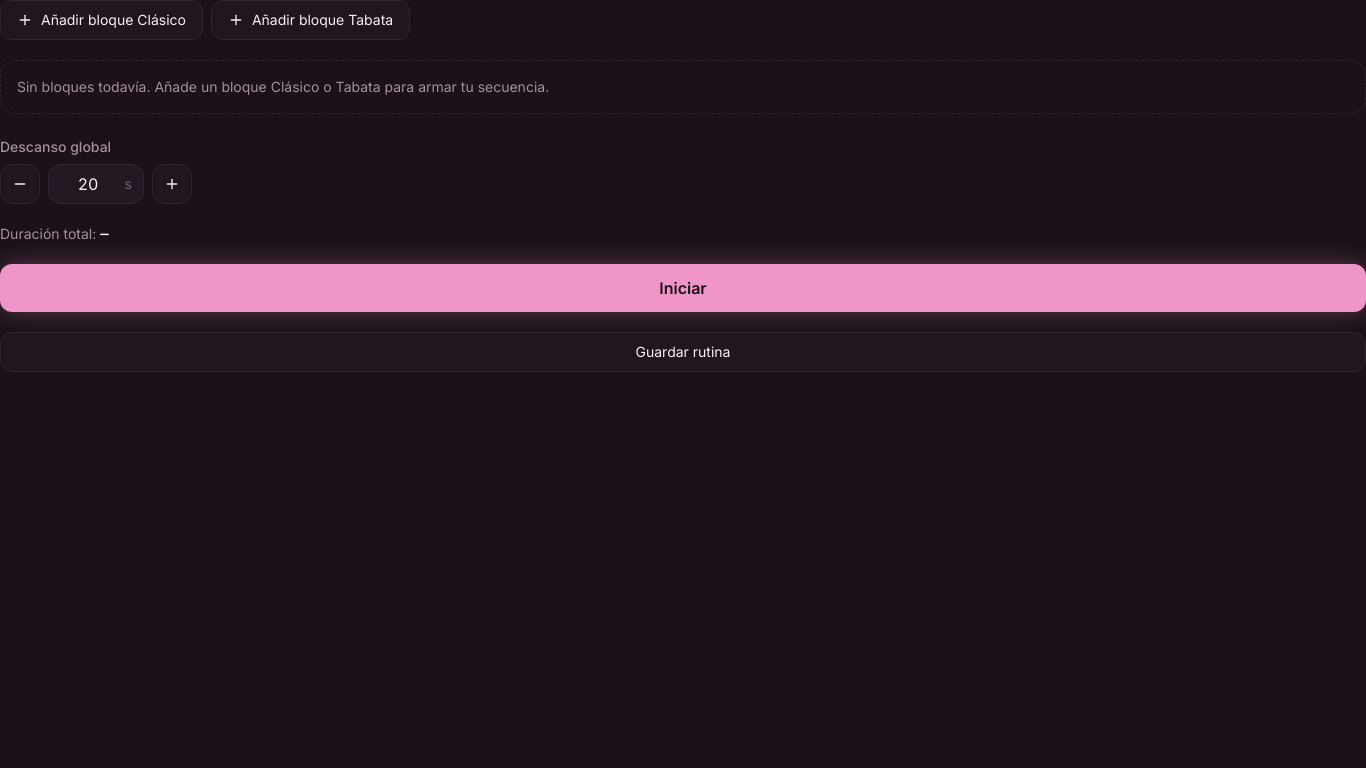
Test: PersonalizadoBuilder — resumen vivo vía compilePlan › el resumen reacciona en vivo al descanso global (20 s → 30 s ⇒ 2:10)
Click the button "Añadir bloque Tabata": (310, 20) [211,0,410,40]
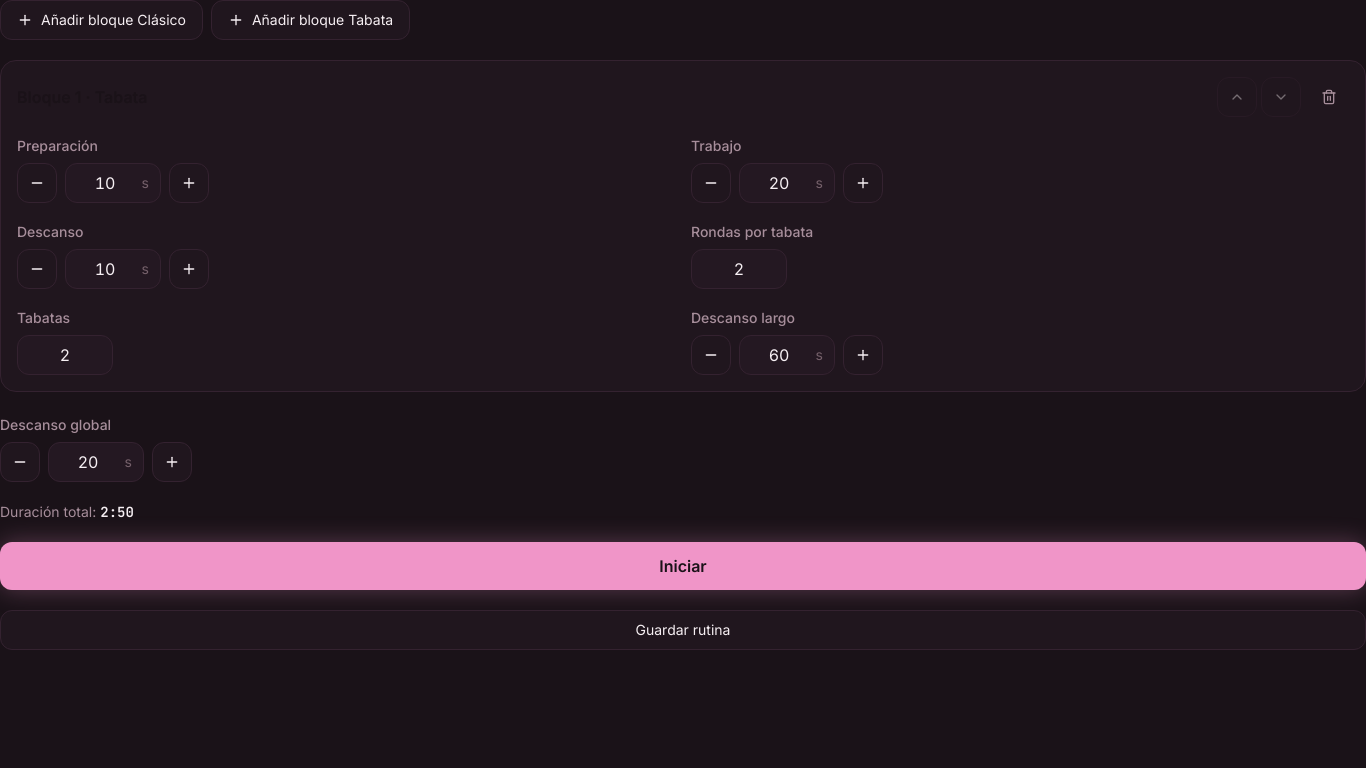
Replace the text in the field labelled "Tabatas" with "1": (65, 355) [17,335,113,375]
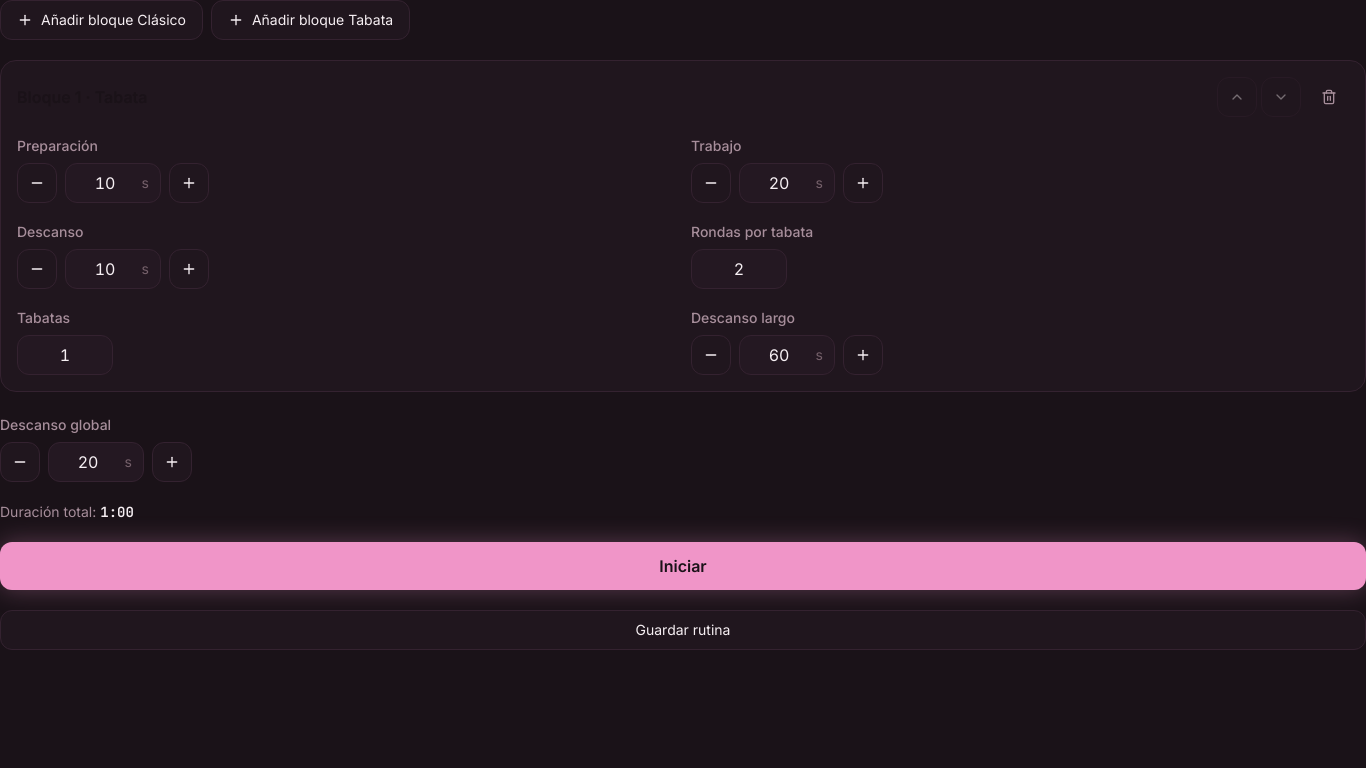
Click the button "Añadir bloque Clásico": (101, 20) [0,0,203,40]
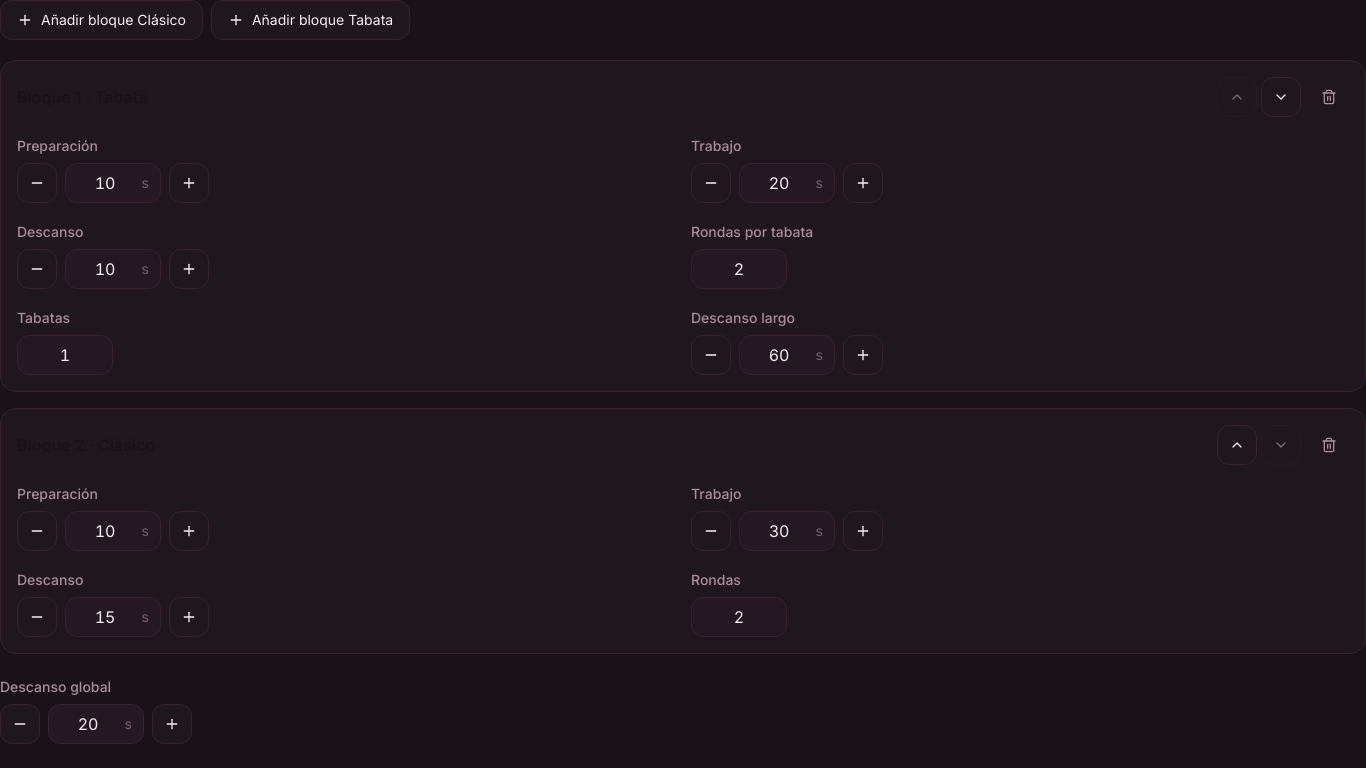
Replace the text in the field labelled "Rondas" with "1": (739, 617) [691,597,787,637]
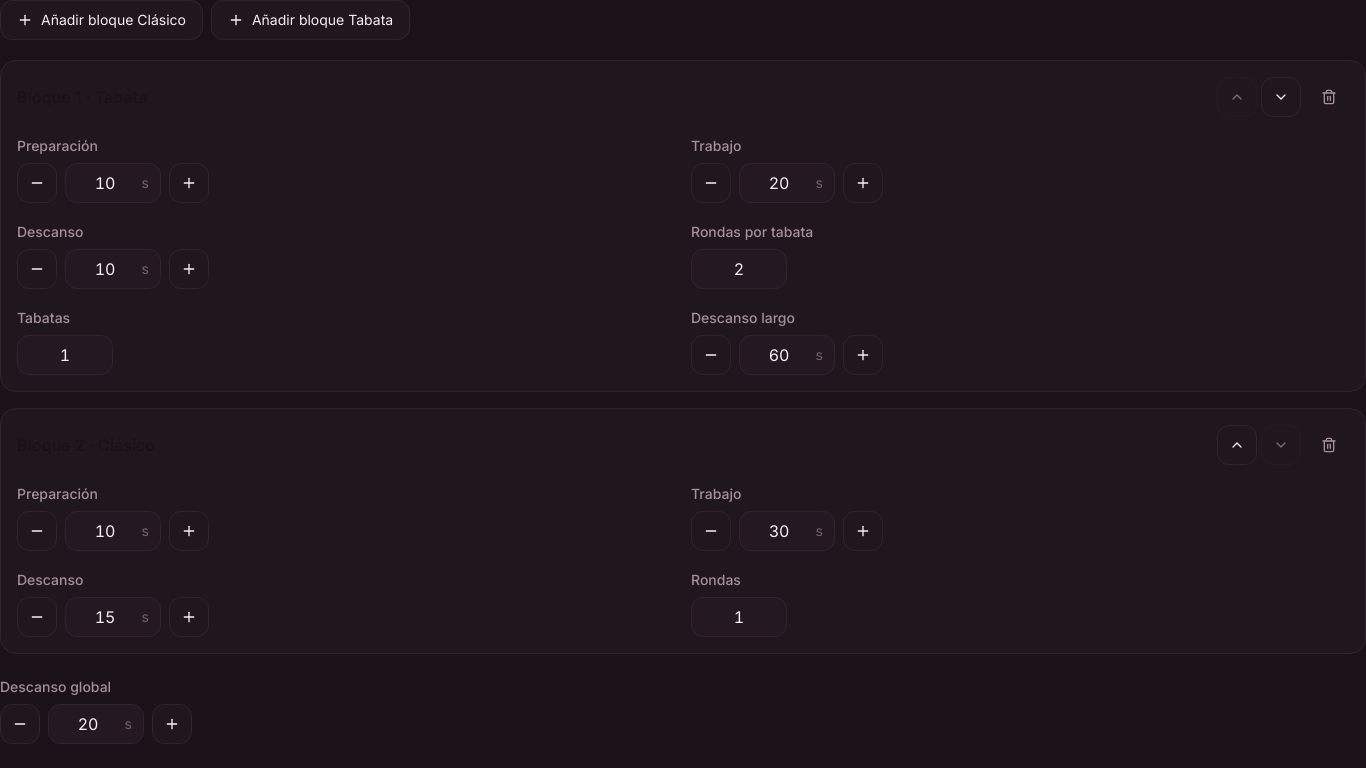
Replace the text in the field labelled "Descanso global" with "30": (96, 724) [48,704,144,744]
(page scrolled)
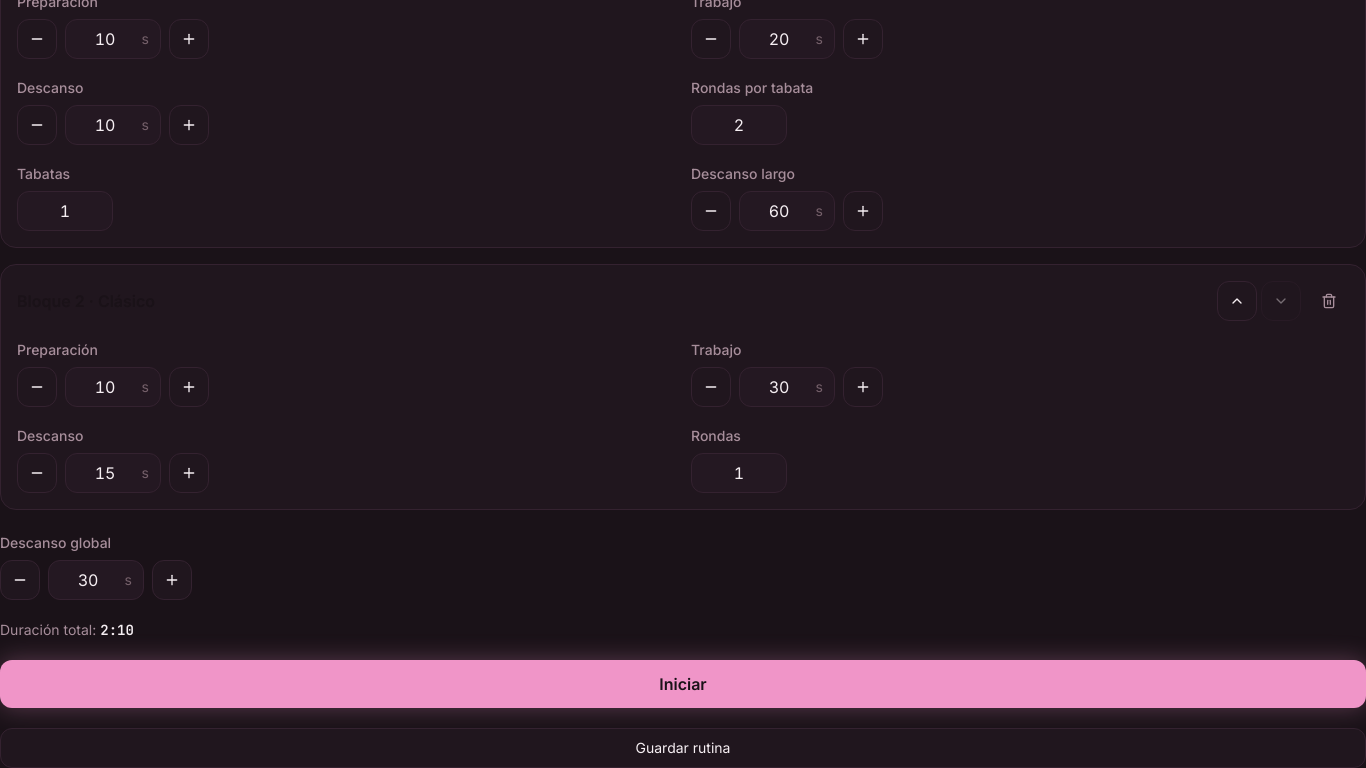
Result: the text with test id "total-sesion" reads "2:10" at [100,621,134,639]
